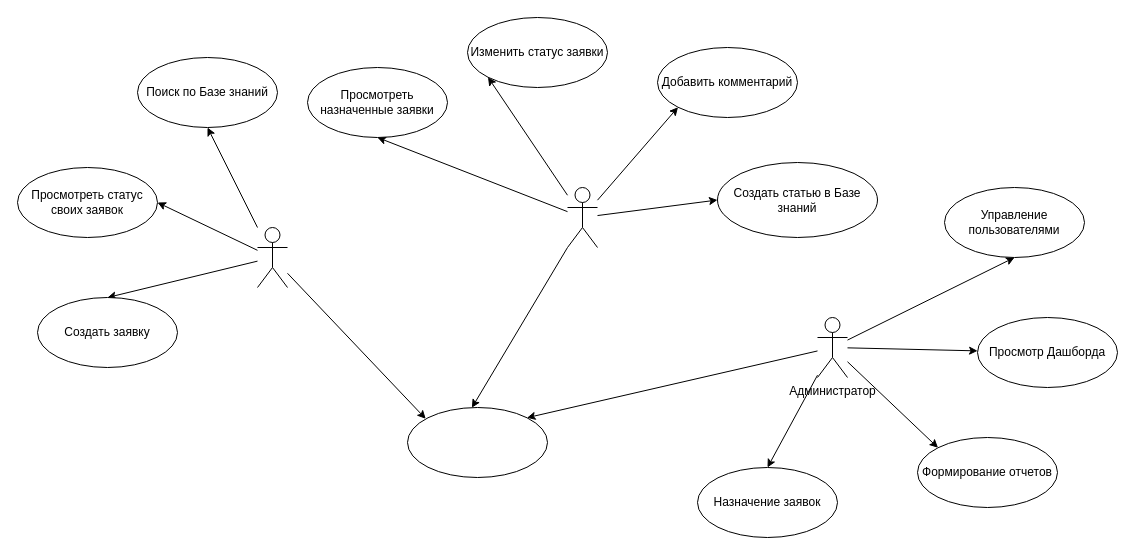
Image size: 1135x555. Some labels were removed from this diagram. Each missing label, with the box of its shape:
Войти/Авторизоваться: (406, 406, 548, 478)
Пользователь: (256, 226, 288, 288)
Технический специалист: (566, 186, 598, 248)
